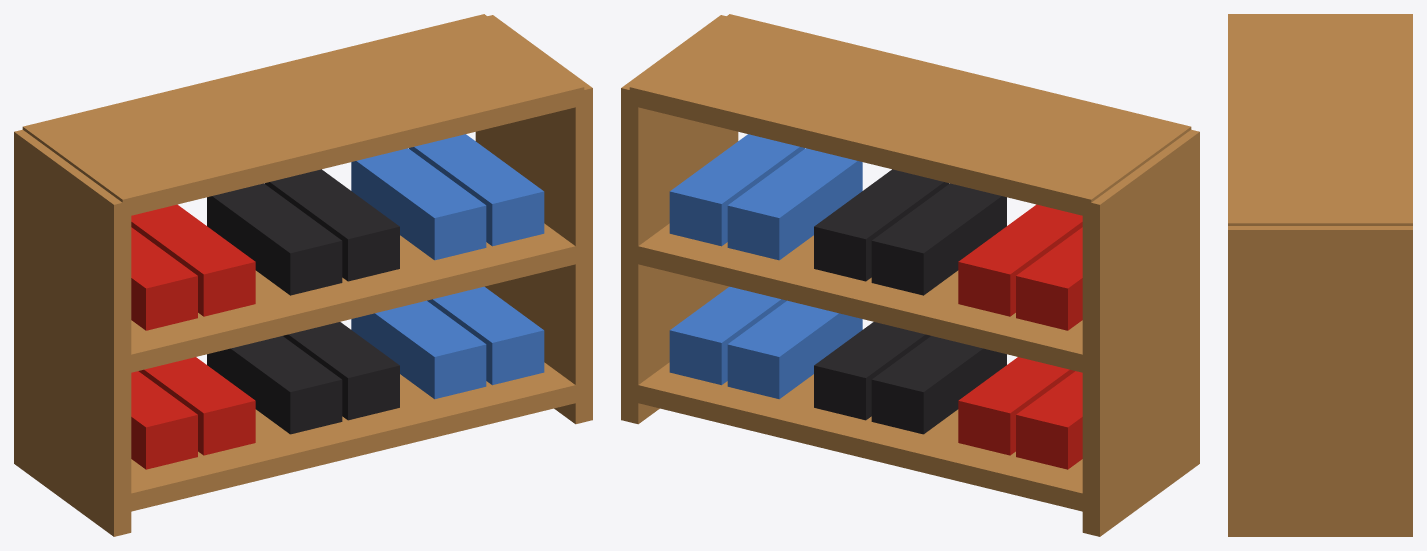
The model's file is shoe_rack.glb.
The picture shows the model from 3 angles, left to right: view 1: azimuth 30°, elevation 25°; view 2: azimuth 150°, elevation 25°; view 3: azimuth 270°, elevation 25°; orthographic projection. The views are drawn at different scales.
Parts seen in each view (by area): view 1: shoe_rack; view 2: shoe_rack; view 3: shoe_rack.
Boxes of the visible parts, x1,y1,x2,y2 form: shoe_rack: (14,14,592,536); shoe_rack: (621,14,1199,536); shoe_rack: (1228,14,1412,536).
Bounding box in the file's own units: 0.83 × 0.555 × 0.3.
